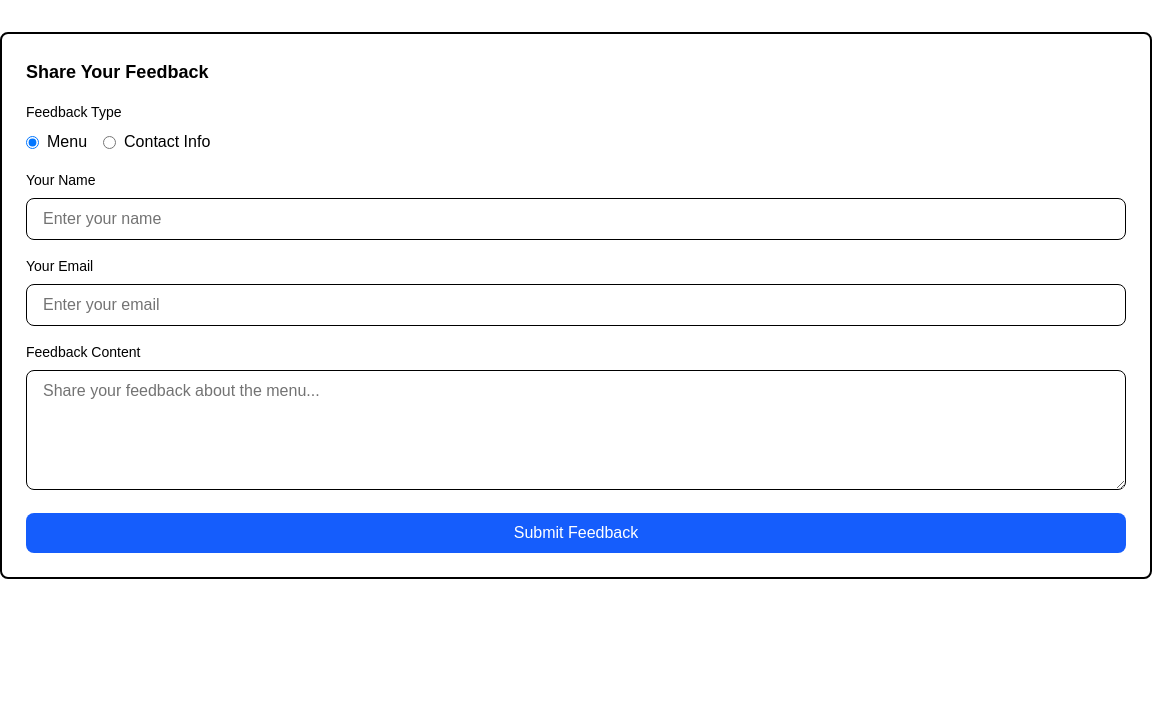
Test: FeedbackForm Component › should show error for empty email
Type "John Doe" into the field labelled "Your Name" at (576, 219), box [26,198,1126,240]
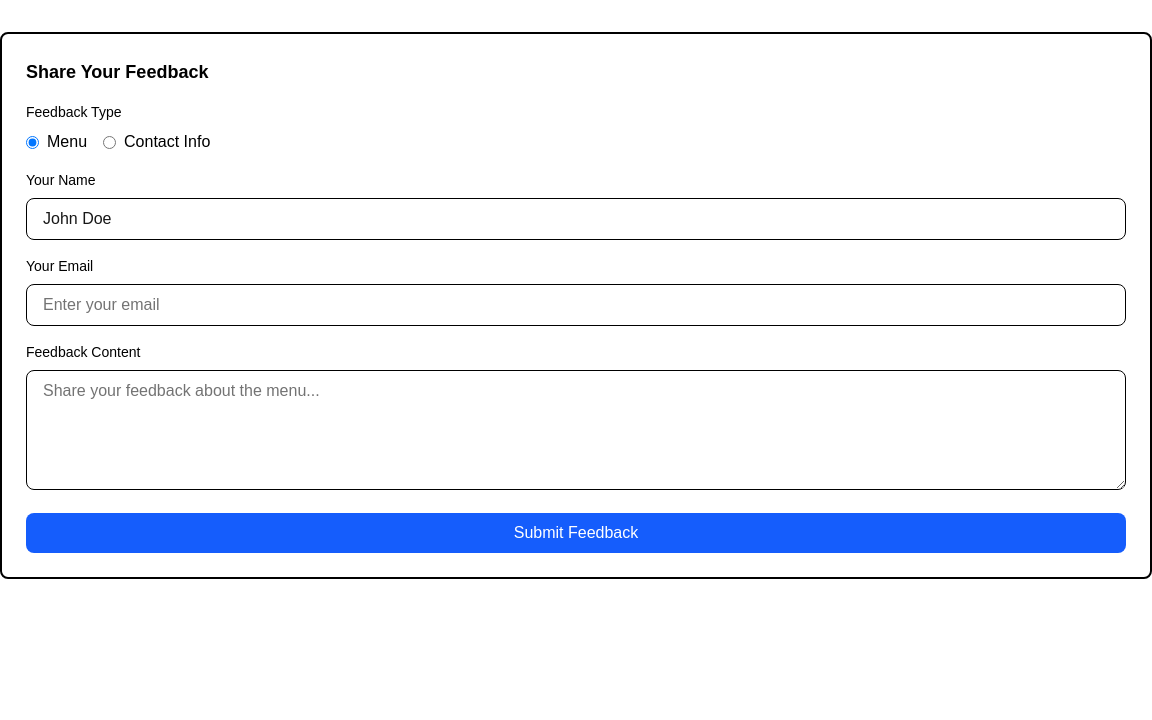
Type "Great menu!" into the text box labelled "Feedback Content" at (576, 430), box [26,370,1126,490]
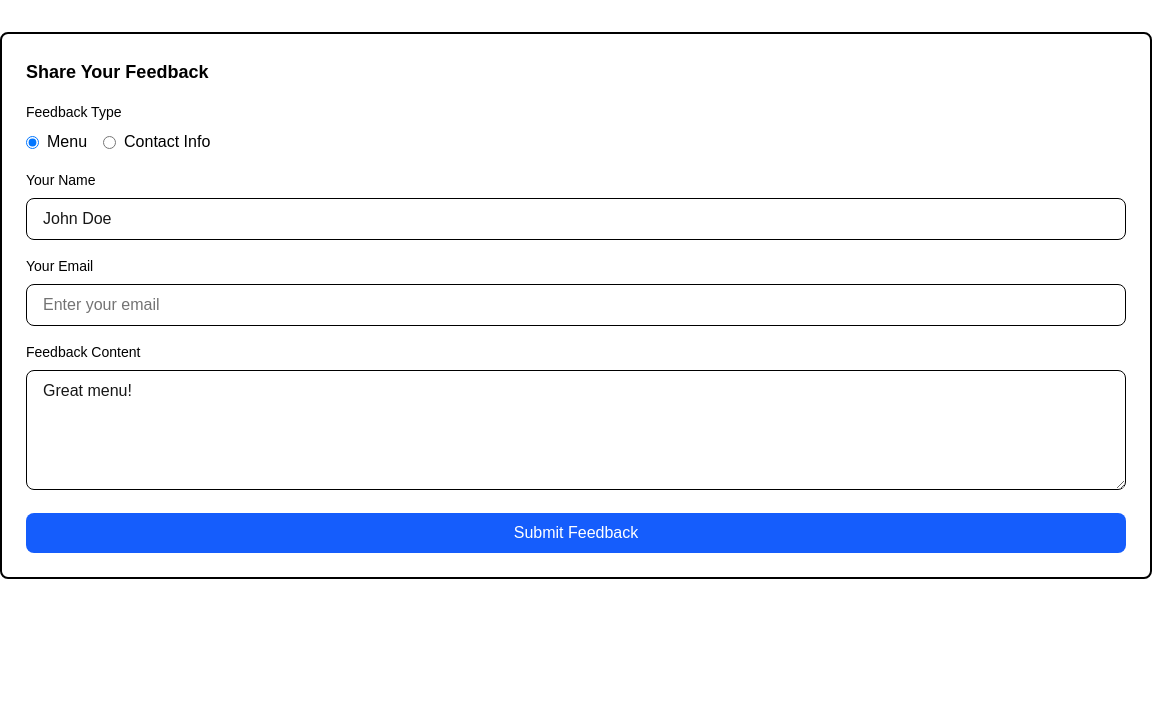
Click the button "Submit Feedback" at (576, 533), box [26,513,1126,553]
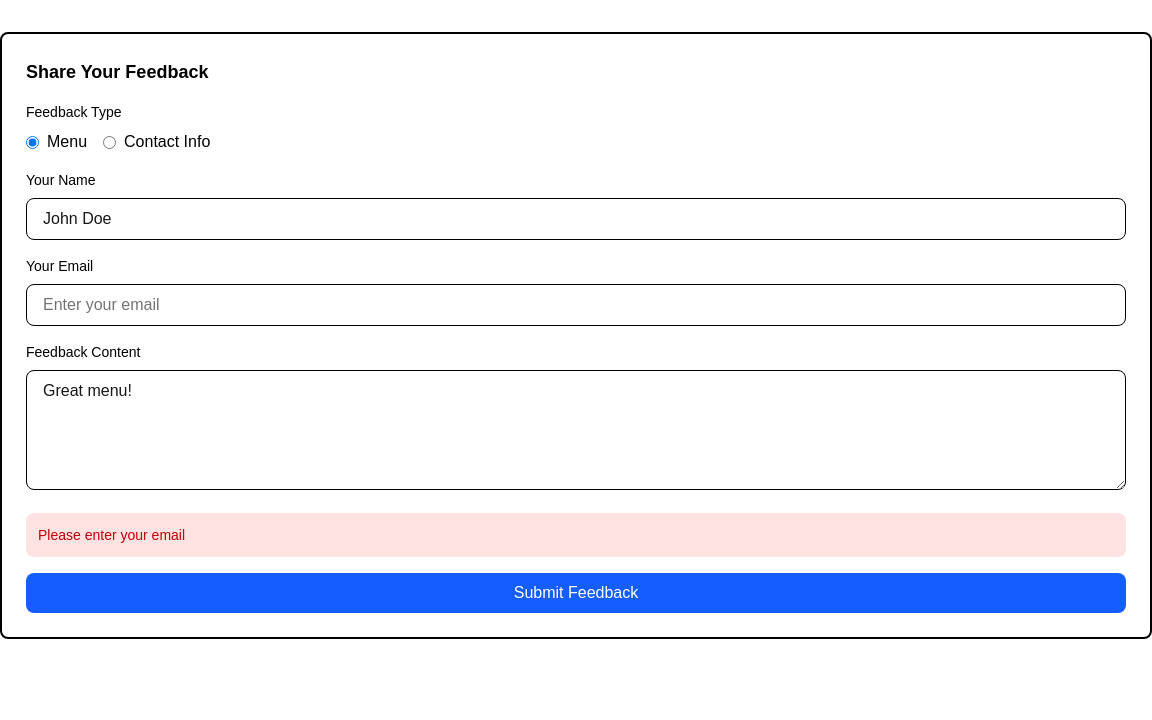
Expected: the text "Please enter your email" is shown, [26,513,1126,557]
